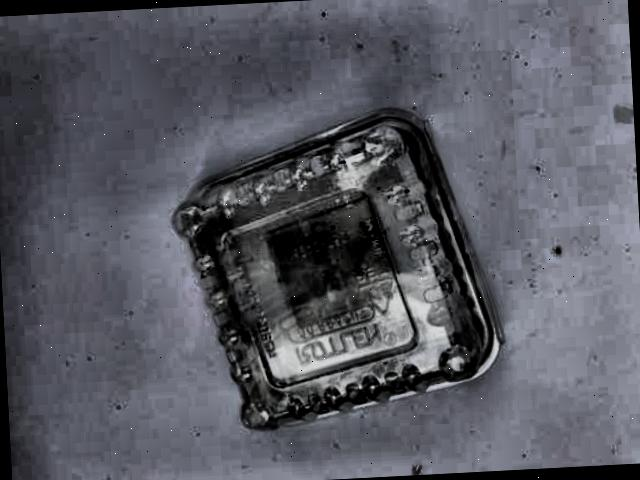Plastic: (156, 94, 508, 433)
